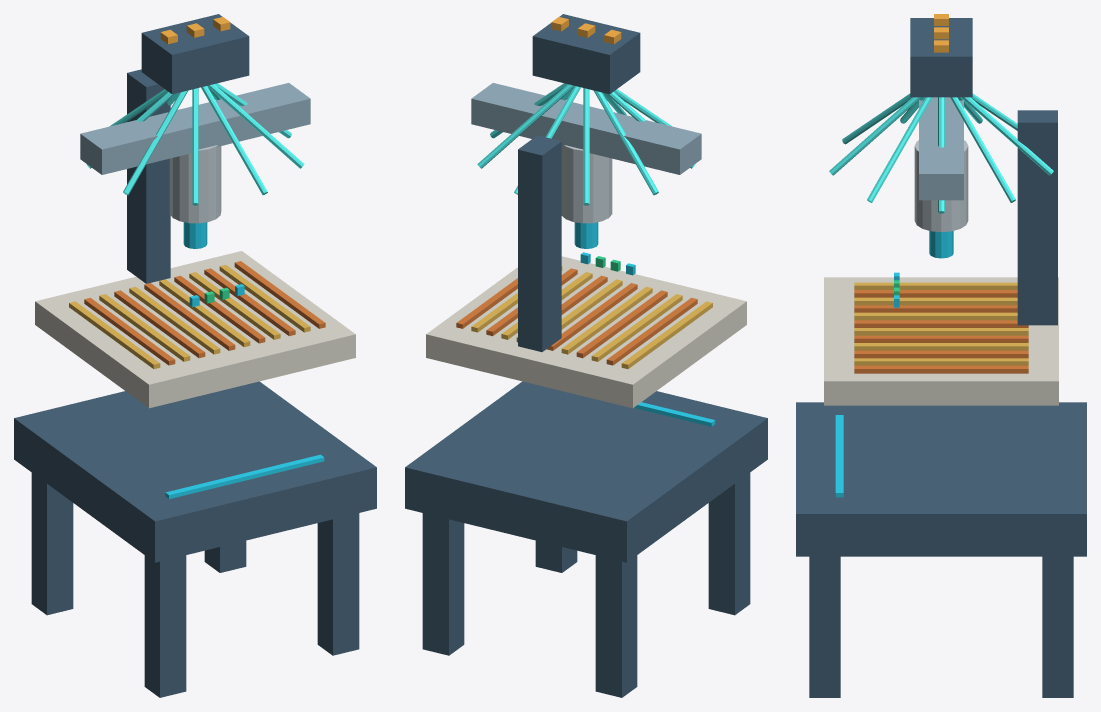
File: 49_L78_DielectricEllipsometryStation.fbx
The picture shows the model from 3 angles, left to right: view 1: azimuth 30°, elevation 25°; view 2: azimuth 150°, elevation 25°; view 3: azimuth 270°, elevation 25°; orthographic projection. The views are drawn at different scales.
Visible parts, largest first — view 1: DielectricEllipsometryStation, DielectricEllipsometryStation_Part_0032; view 2: DielectricEllipsometryStation, DielectricEllipsometryStation_Part_0032; view 3: DielectricEllipsometryStation, DielectricEllipsometryStation_Part_0032.
Boxes of the visible parts, x1,y1,x2,y2 form: DielectricEllipsometryStation: [14, 69, 376, 697]; DielectricEllipsometryStation_Part_0032: [141, 14, 249, 94]; DielectricEllipsometryStation: [405, 83, 767, 697]; DielectricEllipsometryStation_Part_0032: [532, 14, 640, 94]; DielectricEllipsometryStation: [796, 93, 1086, 697]; DielectricEllipsometryStation_Part_0032: [910, 18, 972, 97].
Size of the model in its own units: 118 by 305 by 130.
